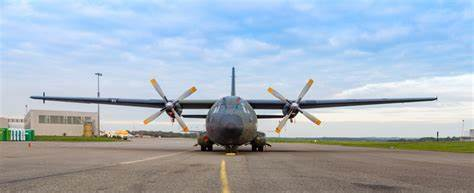Aeronef_militaire: (26, 63, 450, 155)
